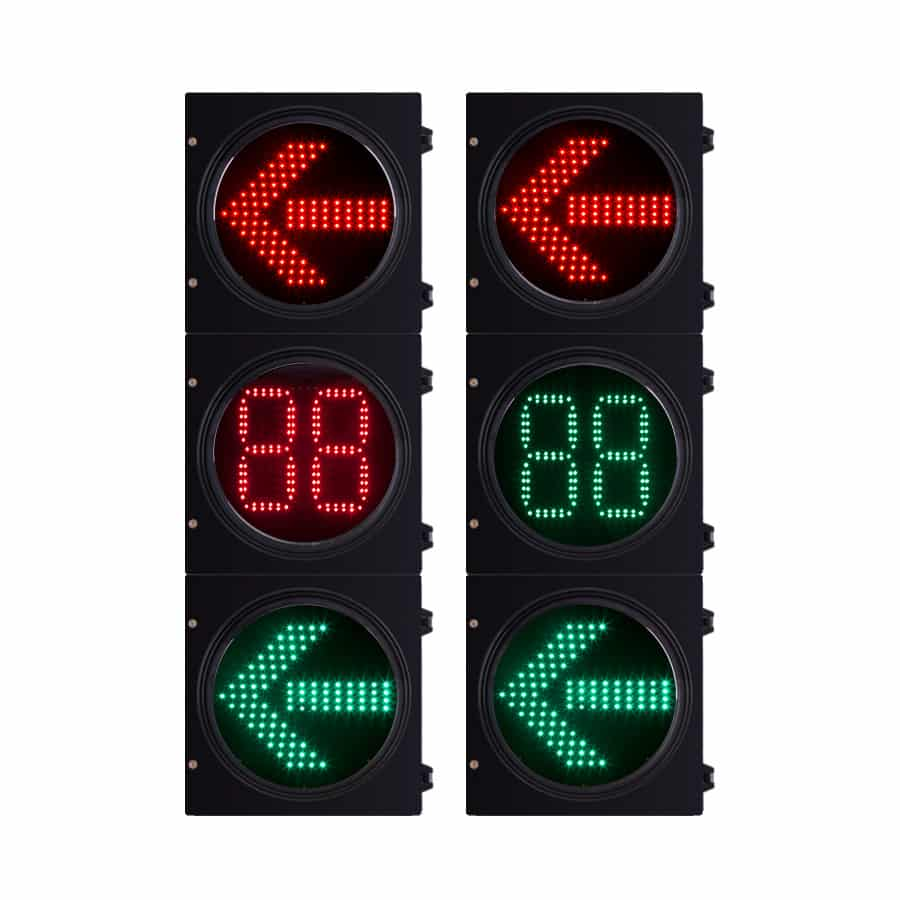TraficLight: (163, 80, 462, 821), (447, 75, 731, 828)
